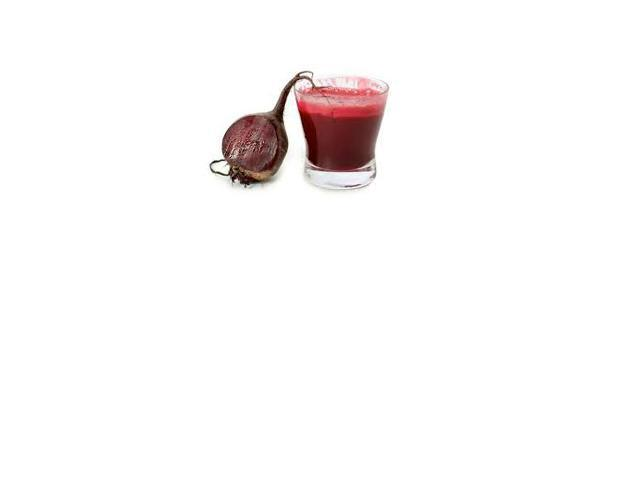beet: (210, 71, 327, 186)
